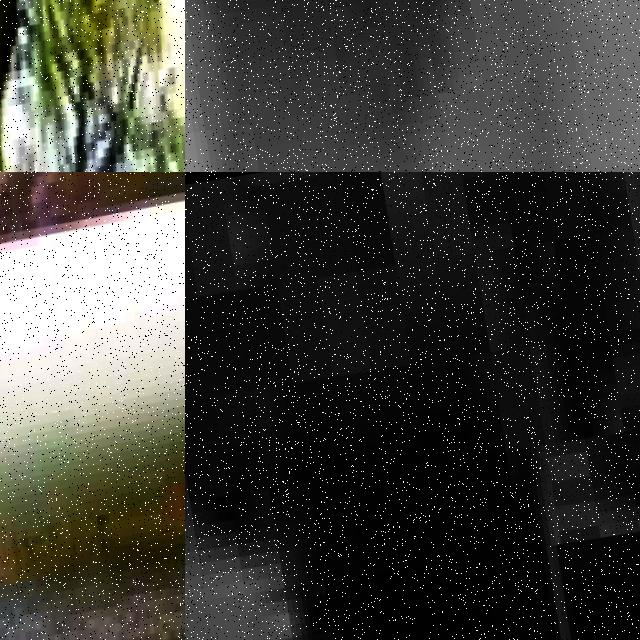drone: (0, 172, 185, 640), (0, 0, 185, 172)
